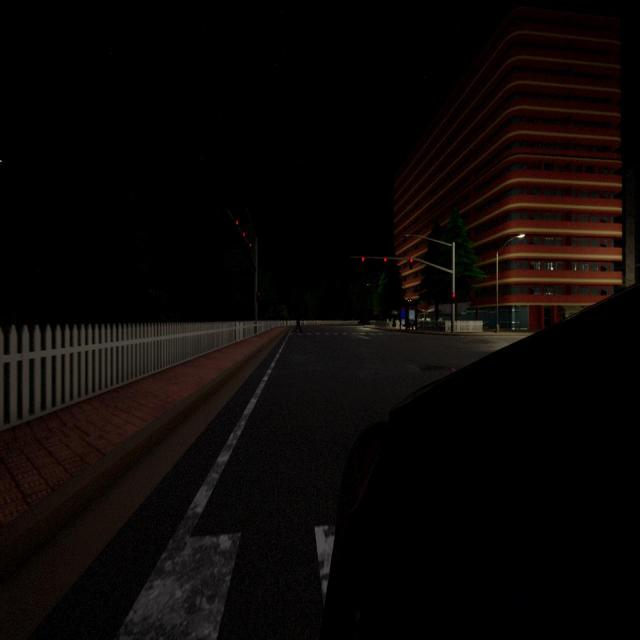Pedestrian: (294, 312, 303, 335)
Vehicle: (321, 288, 640, 640)
traffic_light: (409, 258, 413, 269), (256, 292, 260, 302), (383, 257, 387, 266), (452, 293, 455, 304), (362, 257, 364, 265), (236, 220, 238, 225), (243, 232, 245, 237), (250, 244, 252, 248)
